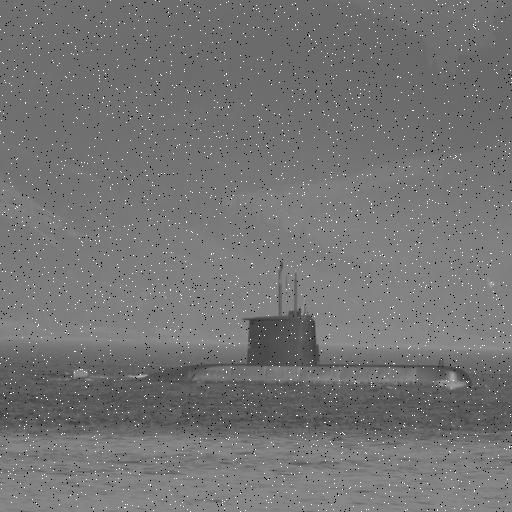submarine: (55, 269, 480, 392)
